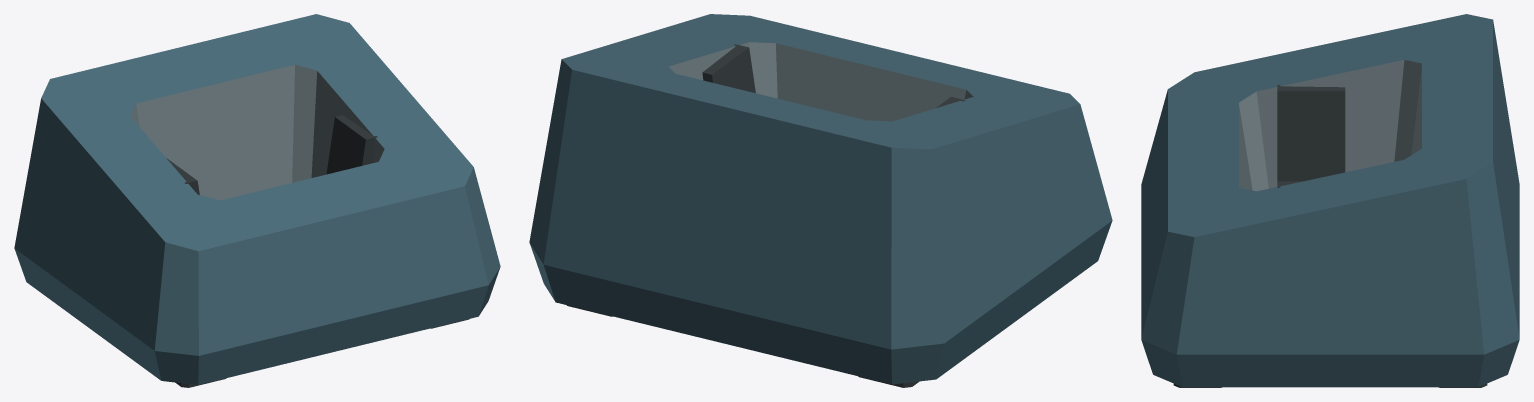
3 views of the same model, side by side, from view 1: azimuth 30°, elevation 25°; view 2: azimuth 150°, elevation 25°; view 3: azimuth 270°, elevation 25° (orthographic). The views are drawn at different scales.
Visible parts, largest first — view 1: Cradle_ThickCavityShell, Guide_RightRib; view 2: Cradle_ThickCavityShell, Guide_RightRib; view 3: Cradle_ThickCavityShell, Guide_LeftRib.
Boxes of the visible parts, <box> form: Cradle_ThickCavityShell: <box>14,14,500,384</box>; Guide_RightRib: <box>326,115,377,174</box>; Cradle_ThickCavityShell: <box>529,14,1112,384</box>; Guide_RightRib: <box>702,44,755,93</box>; Cradle_ThickCavityShell: <box>1141,14,1519,387</box>; Guide_LeftRib: <box>1277,85,1345,181</box>.
Size of the model in its own units: 0.148 by 0.082 by 0.128.
